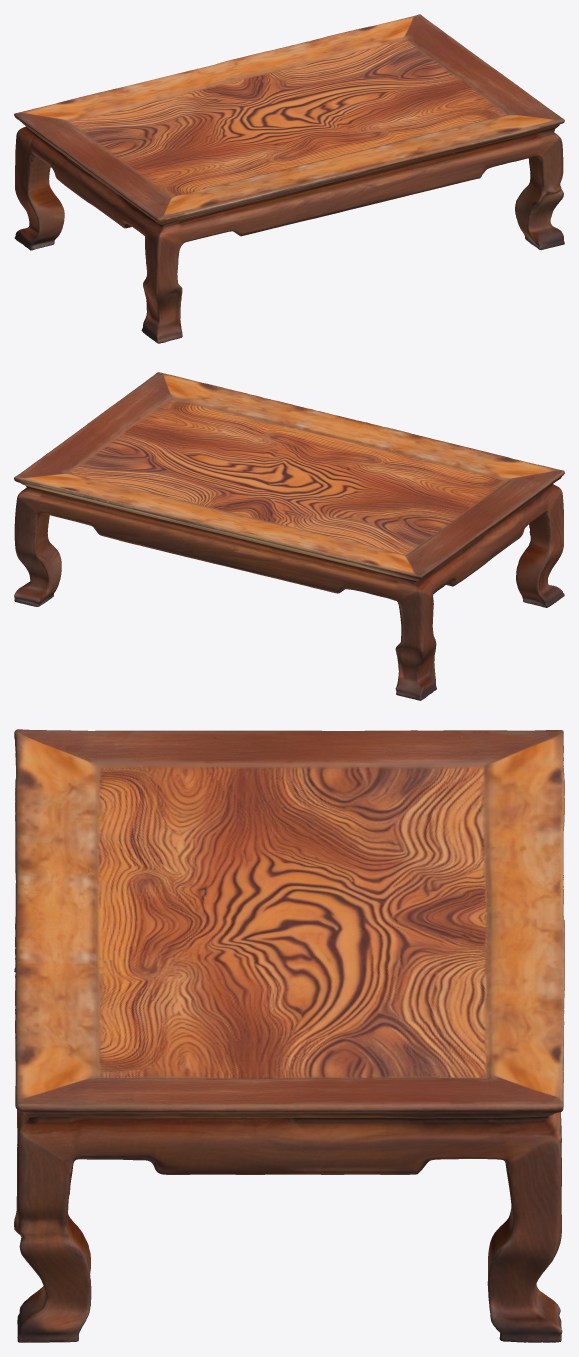
Rendered from 원목 테이블.glb.
3 renders of one model, top to bottom at view 1: azimuth 30°, elevation 25°; view 2: azimuth 150°, elevation 25°; view 3: azimuth 270°, elevation 25°, orthographic. The views are drawn at different scales.
Size of the model in its own units: 2 by 0.5901 by 1.23.
Materials: 1 (1 with a texture image).
